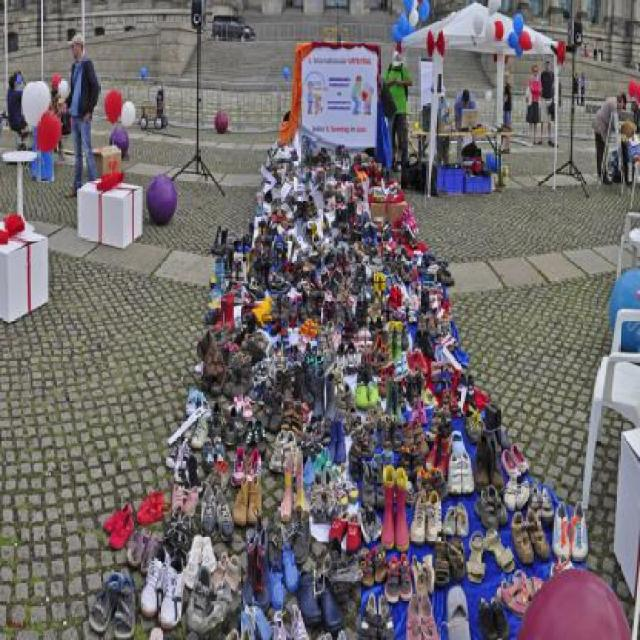Person: (58, 31, 92, 167), (588, 93, 628, 185), (385, 49, 413, 173), (8, 67, 29, 153), (454, 90, 477, 168), (542, 58, 558, 148), (435, 85, 450, 164), (525, 65, 540, 144), (502, 72, 513, 153), (155, 78, 168, 131), (350, 73, 364, 115), (47, 88, 59, 112), (306, 78, 314, 114), (367, 86, 375, 117), (580, 72, 586, 108), (573, 73, 579, 105), (314, 95, 321, 116), (362, 92, 369, 112), (578, 45, 584, 57), (586, 45, 588, 57)
